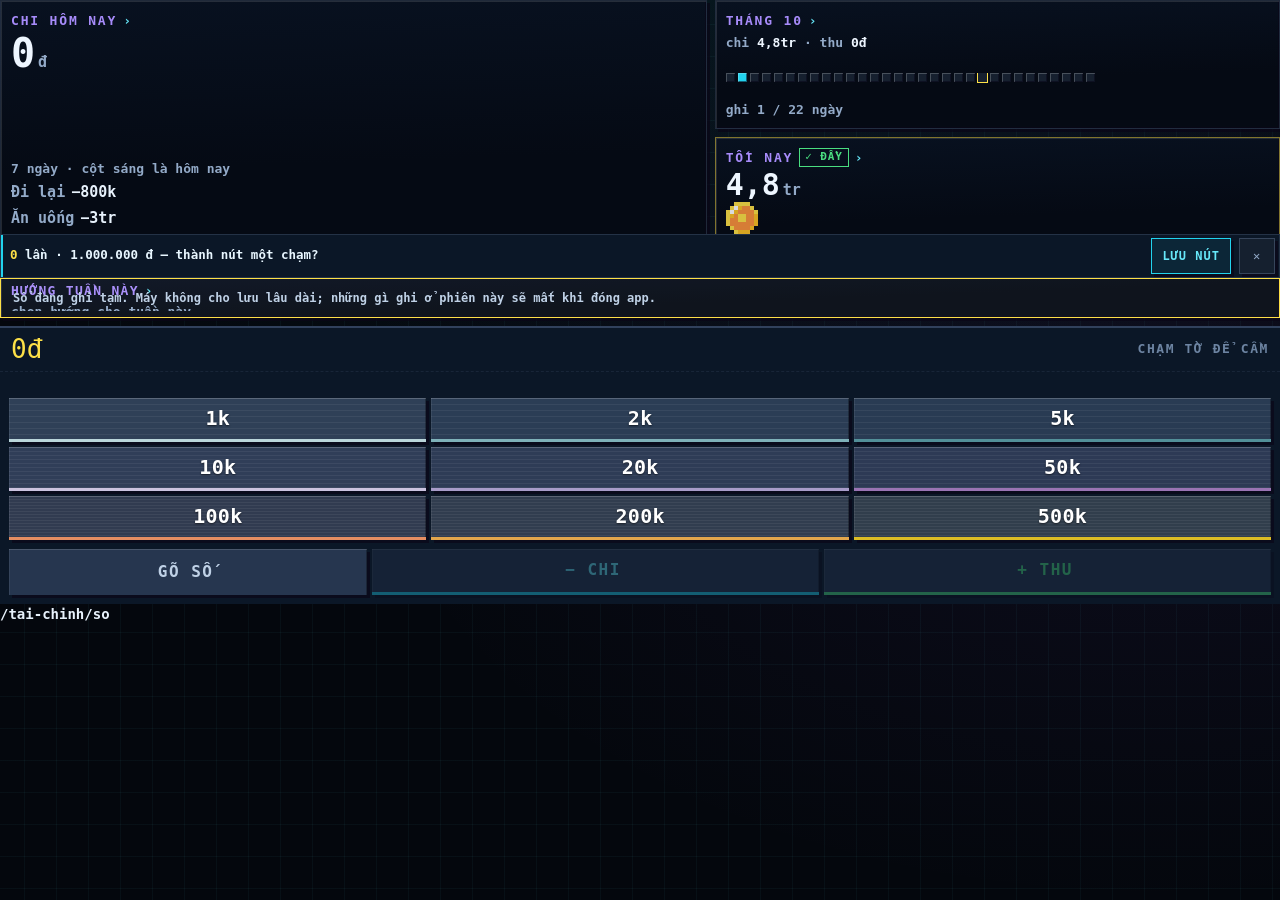
Test case: §III — danh sách › ⭐⭐ D421 — thẻ hũ ĐẦY trong lớp TỐI NAY (đầy ⇒ chốt) chỉ là hũ TÍCH LŨY; hũ tiêu dùng cũng "đủ mức" vẫn không chiếm chỗ
This screenshot has width=1280, height=900.
Expected: the element with test id "so-hom-nay" does not show "—"
Expected: the text "4,8tr" is shown, [757, 34, 796, 50]
Click the button "TỐI NAY ✓ ĐẦY › 4,8tr chi chưa chia vào hũ". click: (759, 157)
box: [715, 137, 1279, 266]
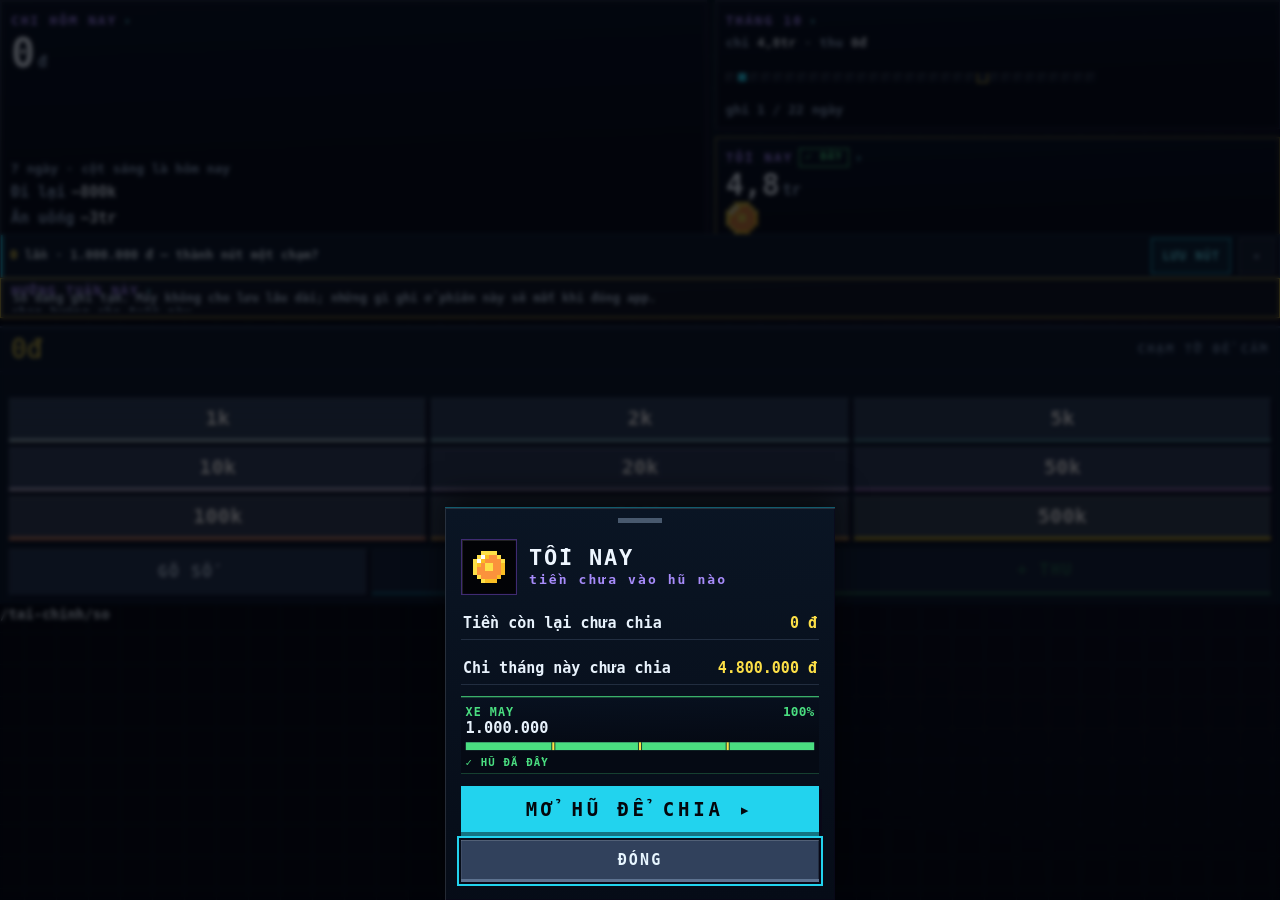
Result: the text "XE MAY" is shown at [466, 704, 514, 719]
